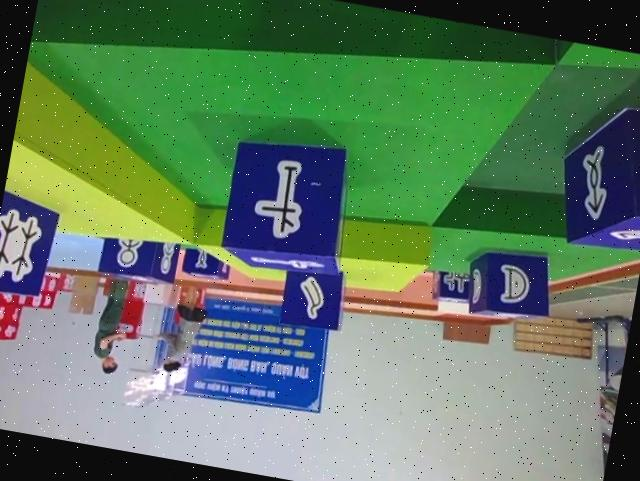R2 Real Blue: (217, 125, 363, 279), (548, 83, 640, 252), (462, 241, 559, 328), (0, 179, 61, 301), (279, 260, 352, 335), (98, 228, 180, 285), (181, 244, 233, 280), (427, 268, 473, 306)
